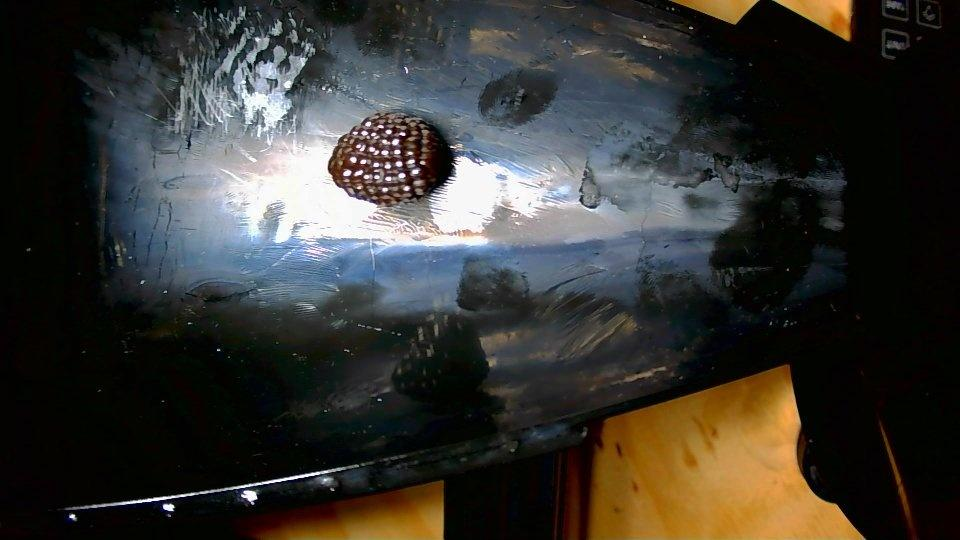berry: (328, 112, 451, 205)
